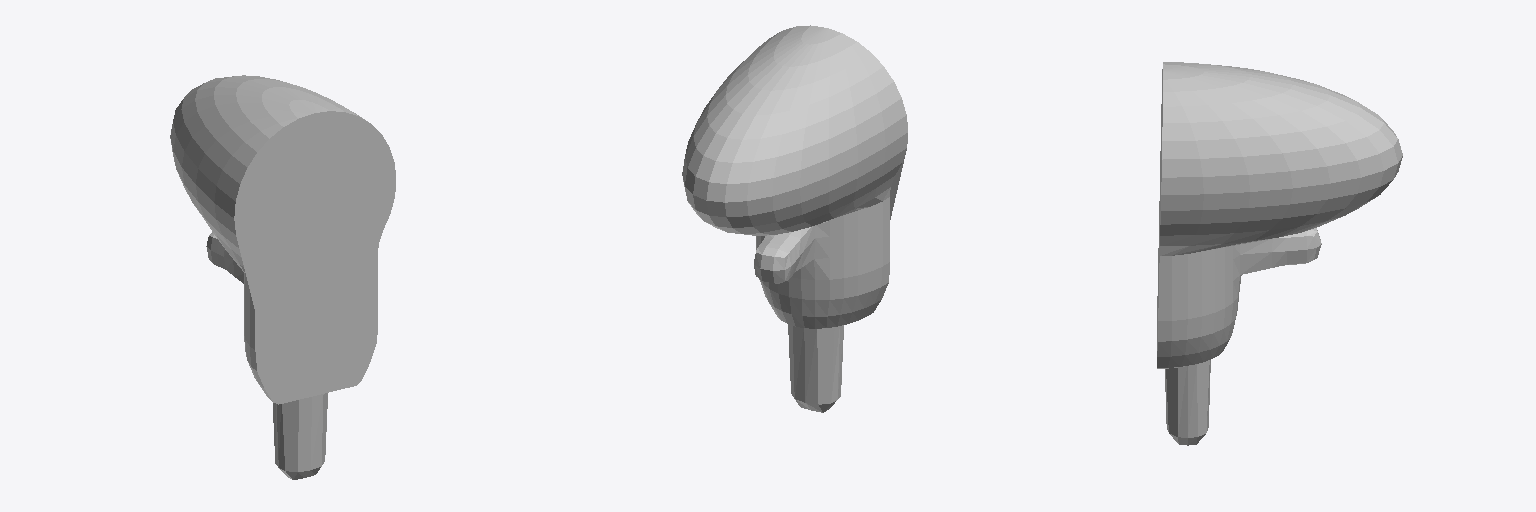
Rendered from nubzuki_right_fail.obj.
3 views of the same model, side by side, from view 1: azimuth 30°, elevation 25°; view 2: azimuth 150°, elevation 25°; view 3: azimuth 270°, elevation 25° (orthographic).
Visible parts, largest first — view 1: Sphere.003; view 2: Sphere.003; view 3: Sphere.003.
Boxes of the visible parts, box(x1,y1,x2,y2) form: Sphere.003: box(170, 75, 395, 479); Sphere.003: box(682, 25, 907, 412); Sphere.003: box(1157, 62, 1402, 445).
Bounding box in the file's own units: 2 × 4.36 × 2.62.